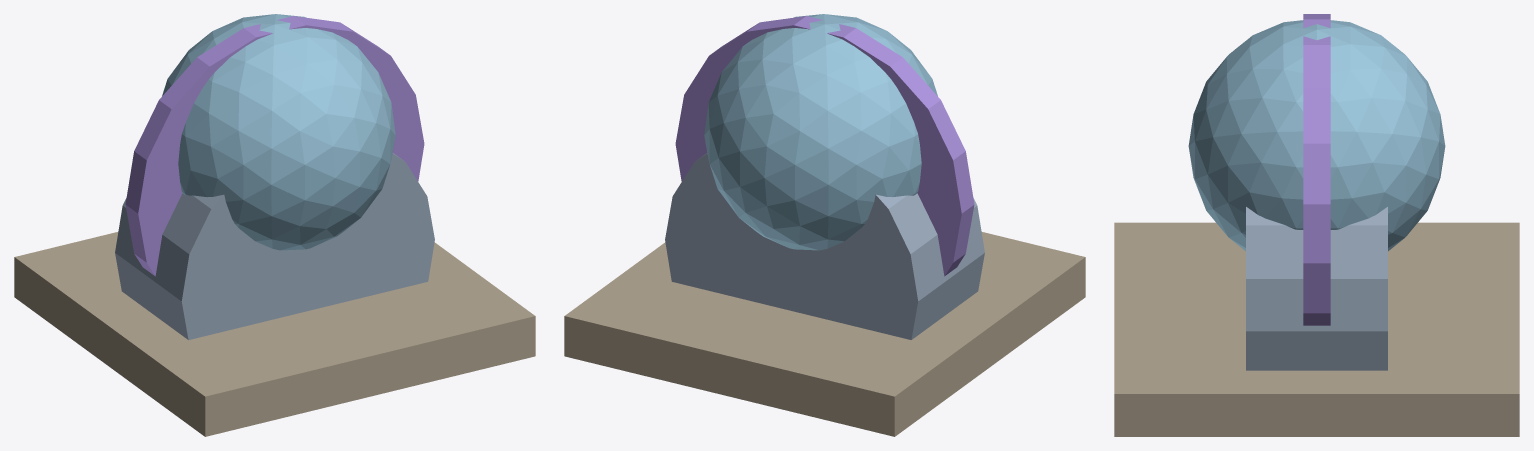
File: laboratory.glb
3 renders of one model, left to right at view 1: azimuth 30°, elevation 25°; view 2: azimuth 150°, elevation 25°; view 3: azimuth 270°, elevation 25°, orthographic. The views are drawn at different scales.
Visible parts, largest first — view 1: g0, g2, g1, g3; view 2: g0, g2, g1, g3; view 3: g0, g2, g1, g3.
Part boxes in pixels (left/top/right/bottom): g0: left=14, top=232, right=535, bottom=436; g2: left=162, top=14, right=395, bottom=250; g1: left=115, top=153, right=434, bottom=339; g3: left=125, top=16, right=424, bottom=276; g0: left=564, top=232, right=1085, bottom=436; g2: left=704, top=14, right=937, bottom=250; g1: left=665, top=153, right=984, bottom=339; g3: left=675, top=16, right=974, bottom=276; g0: left=1114, top=222, right=1519, bottom=436; g2: left=1188, top=20, right=1445, bottom=251; g1: left=1246, top=207, right=1387, bottom=370; g3: left=1303, top=14, right=1330, bottom=325.
Bounding box in the file's own units: 1.2 × 1.22 × 1.2.
